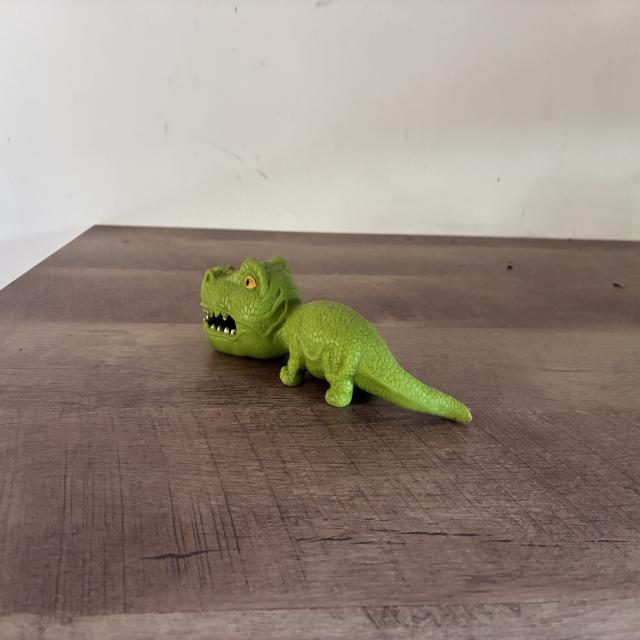dinosaur: (201, 256, 472, 424)
